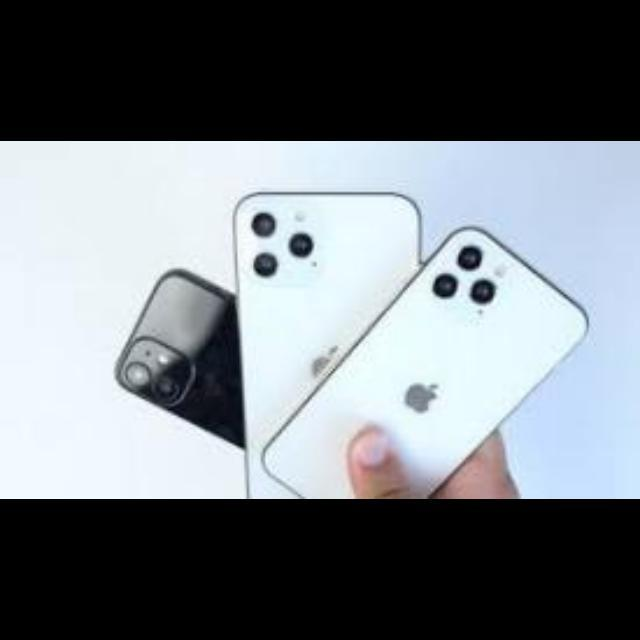Phone: (264, 226, 592, 498), (233, 192, 419, 500), (112, 268, 242, 447)
